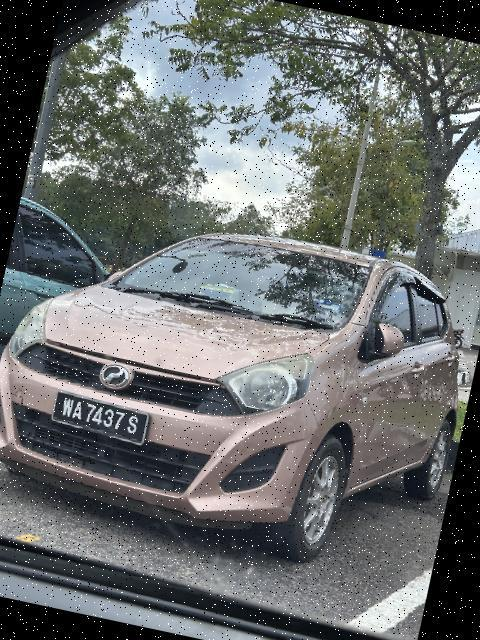License_Plate: (50, 390, 155, 447)
WA7437S: (50, 390, 155, 447)
car: (1, 189, 480, 592)
